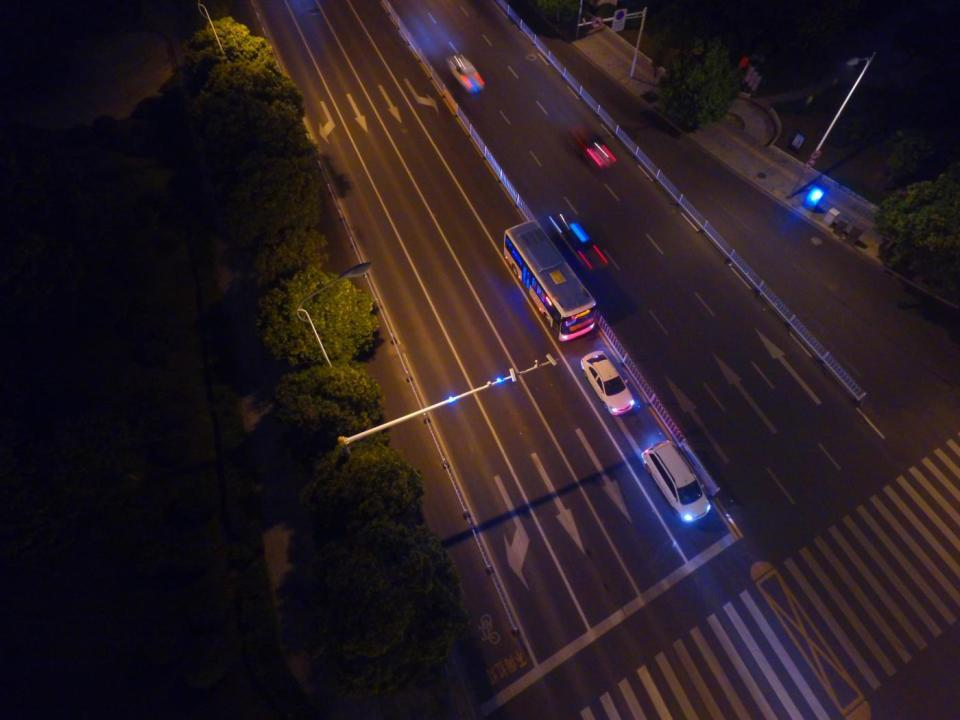bus: (500, 219, 597, 343)
car: (640, 442, 709, 523), (547, 213, 612, 277), (581, 355, 632, 414), (570, 122, 616, 171), (445, 51, 486, 96)
